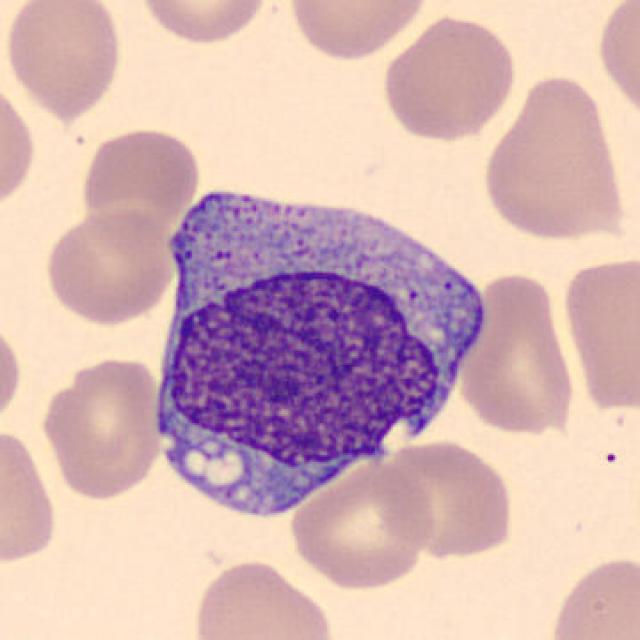Monocyte: (144, 171, 492, 522)
RBC: (478, 69, 631, 245), (297, 530, 512, 640), (284, 452, 438, 594), (455, 268, 580, 439), (36, 352, 166, 502), (377, 10, 519, 144), (375, 436, 517, 560), (41, 205, 178, 326), (0, 0, 126, 122), (78, 123, 203, 245), (558, 250, 640, 414), (188, 555, 338, 640), (284, 0, 435, 63), (0, 423, 62, 570), (544, 552, 640, 640), (135, 0, 274, 48), (592, 0, 640, 127), (0, 76, 39, 217), (0, 316, 25, 432)
